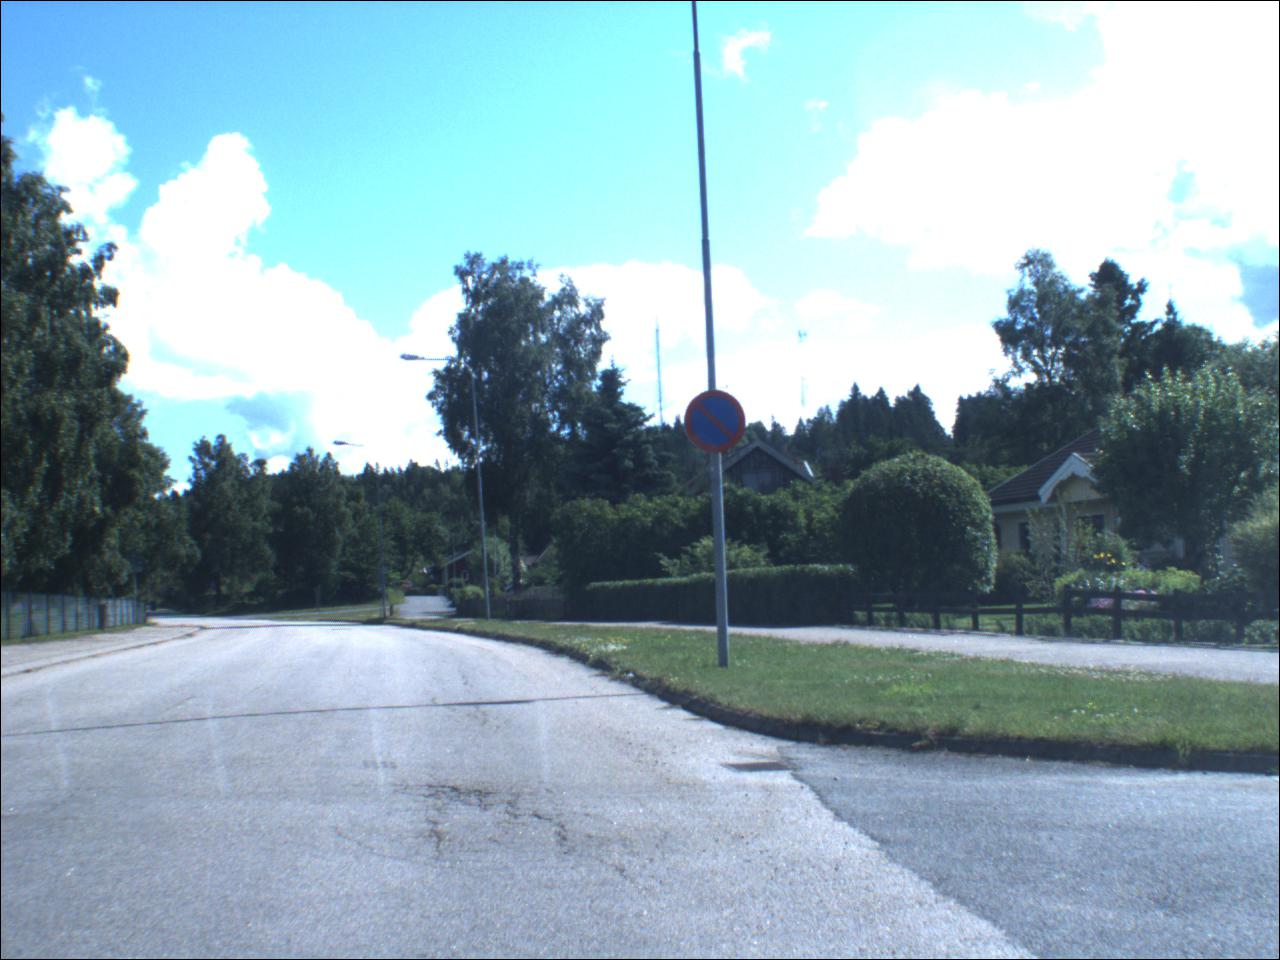NO_PARKING: (681, 388, 752, 456)
